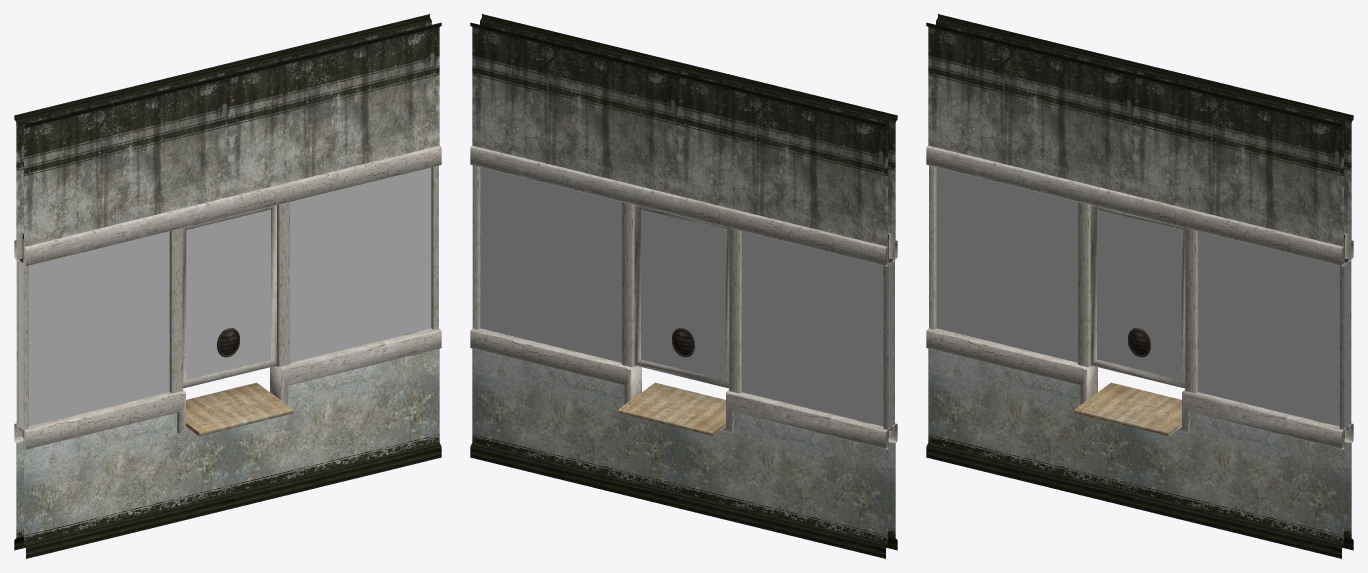
The model's file is waitingroom_receptiondesk_damaged_window.dae.
3 views of the same model, side by side, from view 1: azimuth 30°, elevation 25°; view 2: azimuth 150°, elevation 25°; view 3: azimuth 330°, elevation 25° (orthographic).
Parts seen in each view (by area): view 1: polySurface192, polySurface168, polySurface194; view 2: polySurface192, polySurface168, polySurface194; view 3: polySurface192, polySurface168, polySurface194.
Part boxes in pixels (left/top/right/bottom): polySurface192: left=14, top=14, right=441, bottom=558; polySurface168: left=19, top=167, right=431, bottom=429; polySurface194: left=186, top=209, right=270, bottom=379; polySurface192: left=470, top=14, right=897, bottom=558; polySurface168: left=480, top=167, right=892, bottom=428; polySurface194: left=641, top=209, right=725, bottom=379; polySurface192: left=926, top=14, right=1353, bottom=558; polySurface168: left=936, top=167, right=1348, bottom=429; polySurface194: left=1097, top=209, right=1181, bottom=379.
Size of the model in its own units: 4 by 4 by 0.619.
